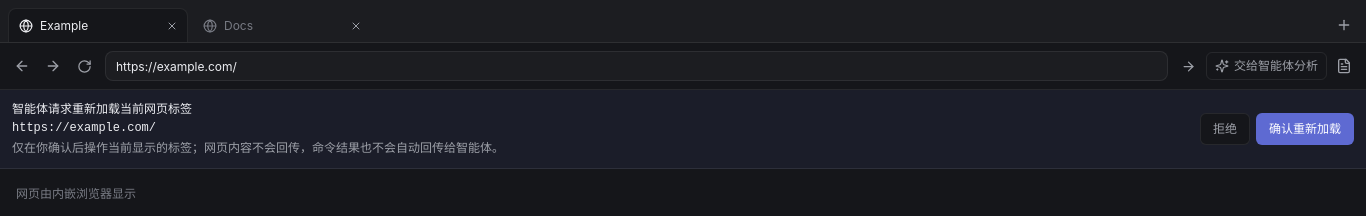
Test case: embedded browser › requires a click and current native tab identity before an AI browser action
Expected: the tab "Example" is shown, x1=9 y1=9 x2=161 y2=42
Expected: the message shows "智能体请求重新加载当前网页标签", x1=0 y1=90 x2=1365 y2=169
Click the button "确认重新加载" at (1305, 129), box x1=1256 y1=113 x2=1354 y2=145
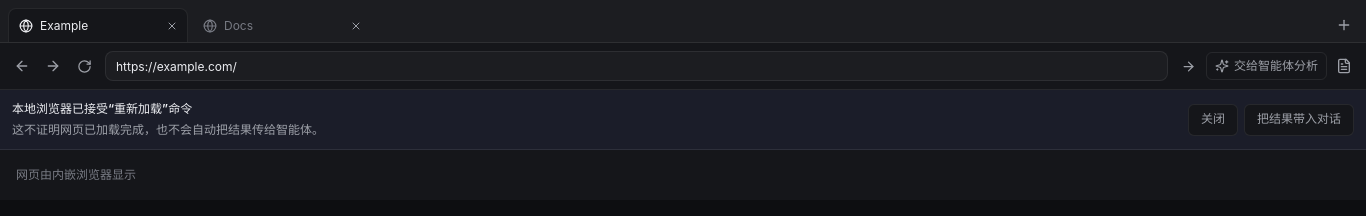
Now the message shows "本地浏览器已接受“重新加载”命令", box x1=0 y1=90 x2=1365 y2=150
Now the message shows "不证明网页已加载完成", box x1=12 y1=122 x2=324 y2=137
Click the button "把结果带入对话" at (1299, 120), box x1=1244 y1=104 x2=1354 y2=136
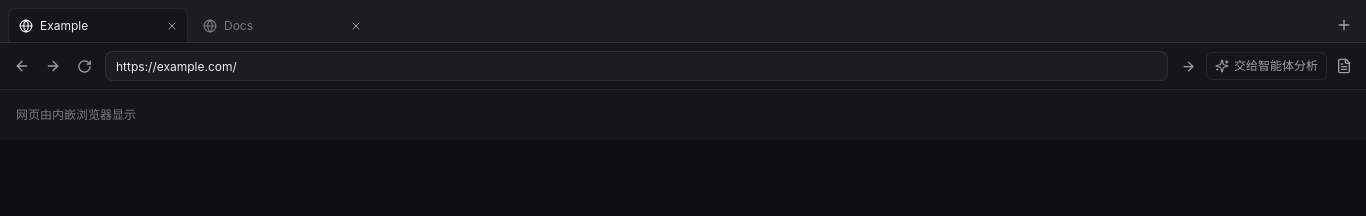
Now the button "把结果带入对话" is gone
